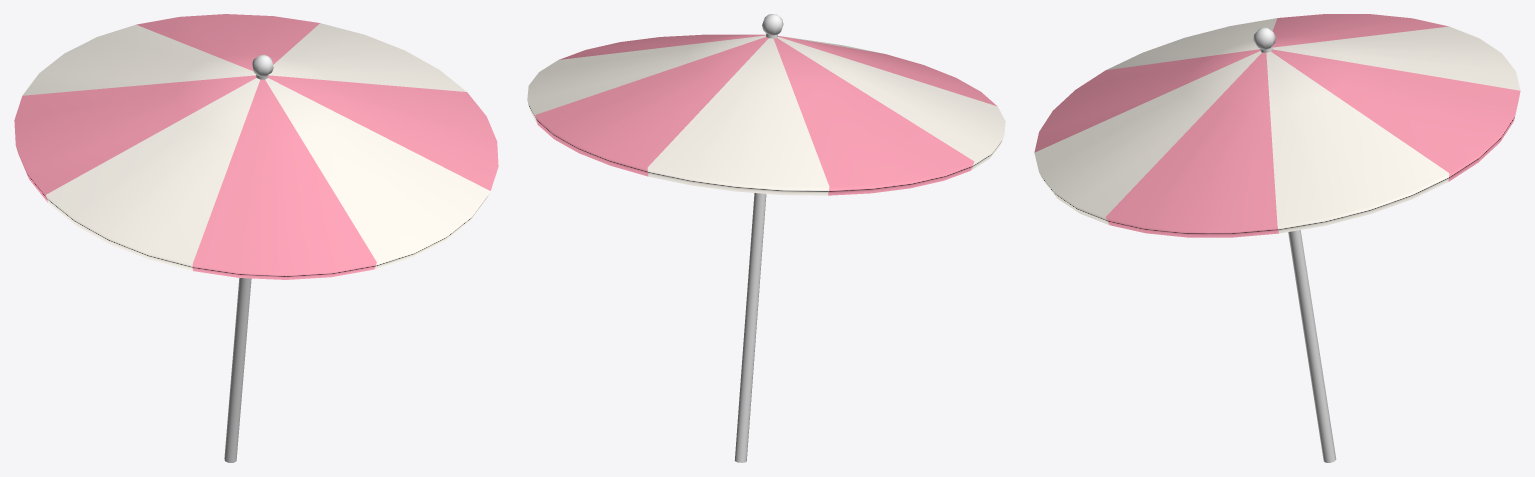
File: BumperParasol.glb
3 views of the same model, side by side, from view 1: azimuth 30°, elevation 25°; view 2: azimuth 150°, elevation 25°; view 3: azimuth 270°, elevation 25° (orthographic). The views are drawn at different scales.
Visible parts, largest first — view 1: CanopyB, CanopyA, Pole; view 2: CanopyA, CanopyB, Pole; view 3: CanopyA, CanopyB, Pole.
Part boxes in pixels (box(x1,y1,x2,y2)): CanopyB: box(22, 23, 490, 270); CanopyA: box(14, 14, 498, 279); Pole: box(224, 54, 273, 462); CanopyA: box(535, 34, 996, 195); CanopyB: box(527, 35, 1005, 195); Pole: box(734, 14, 783, 462); CanopyA: box(1034, 14, 1520, 237); CanopyB: box(1034, 18, 1520, 233); Pole: box(1253, 27, 1336, 462).
Size of the model in its own units: 6.9 by 6.71 by 6.83.
